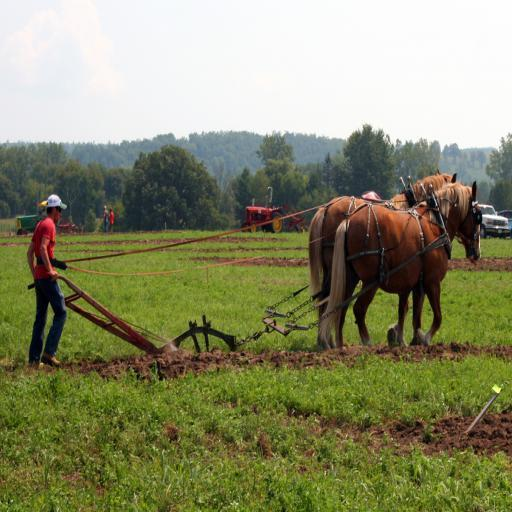horse: (309, 168, 462, 348), (320, 182, 484, 349)
